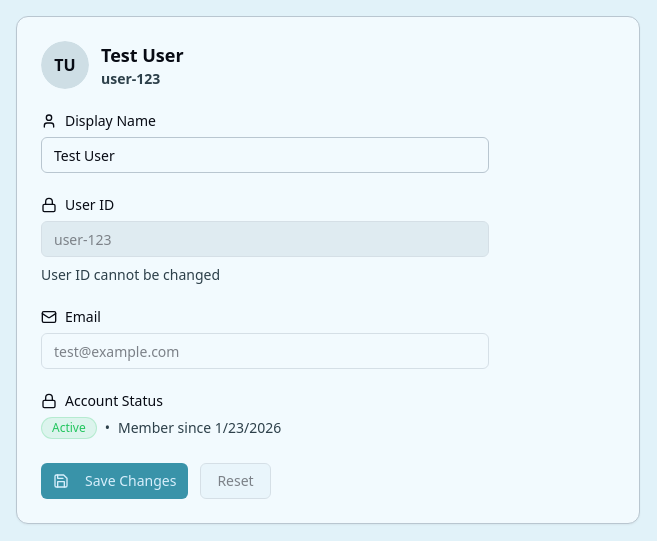
Test case: Profile Page › Reset Button › should reset form to original values
The image size is (657, 541).
Replace the text in the field labelled "Display Name" with "Changed Name": point(265, 155) [41,137,489,173]
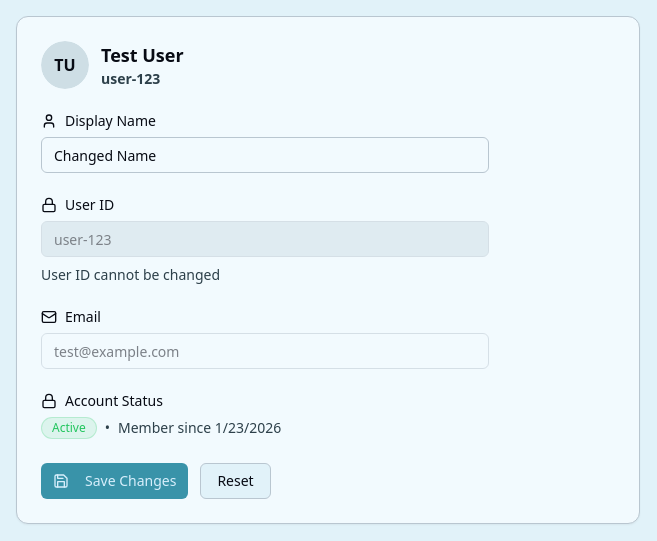
Click the button "Reset": point(236, 481) [200,463,271,499]
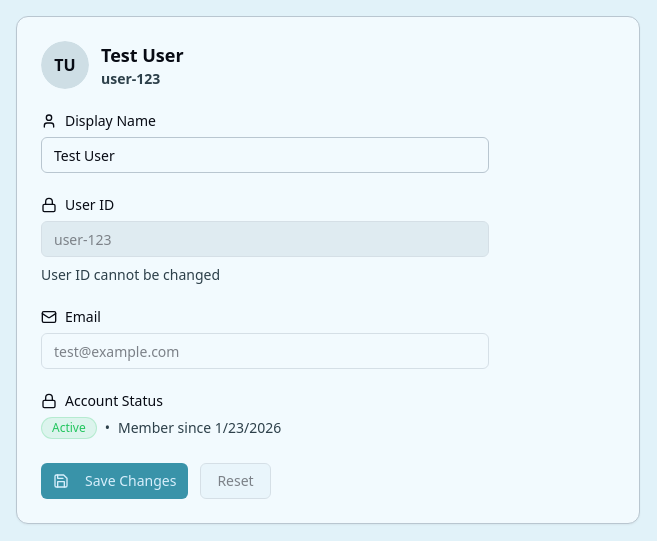
Expected: the field labelled "Display Name" holds "Test User", [41,137,489,173]
